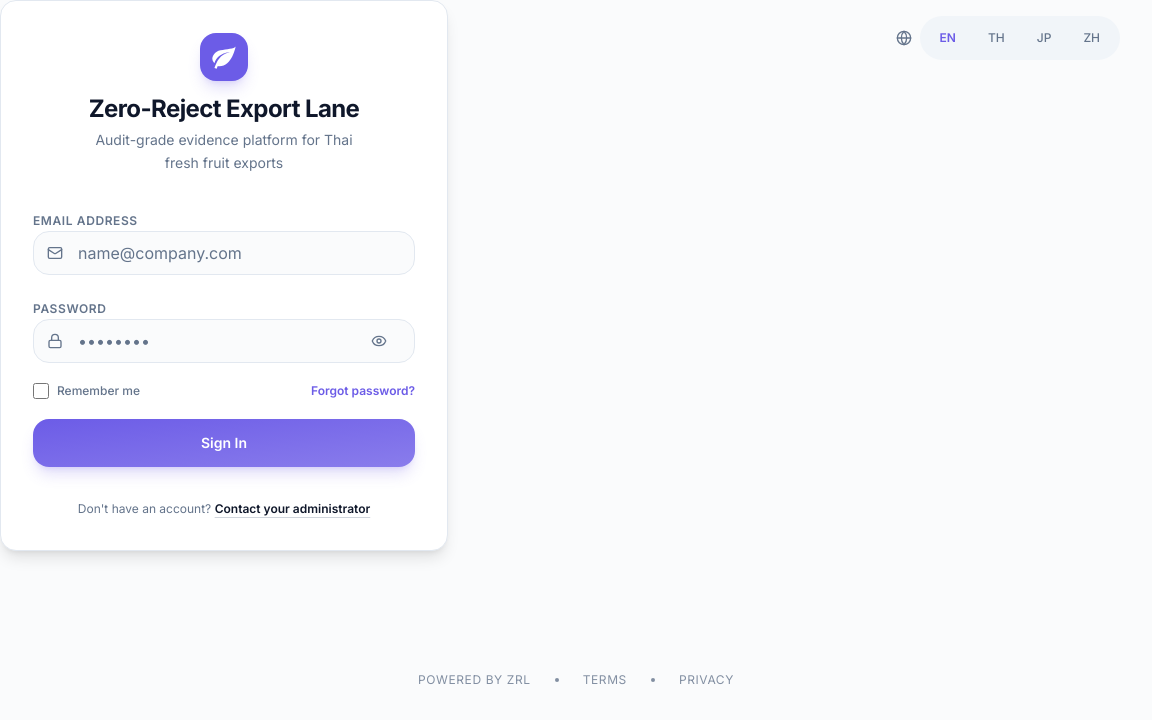
LoginPage › shows validation error for short password
Type "test@example.com" into the field labelled "Email Address" at x=224, y=252, box [33, 230, 415, 274]
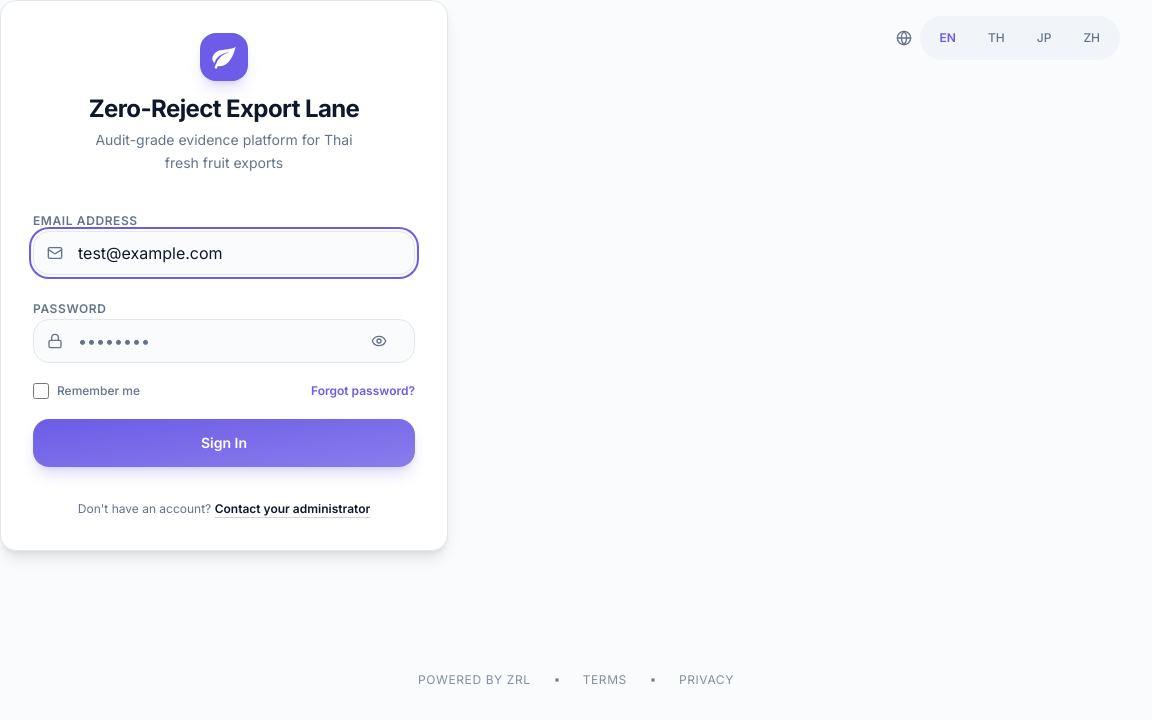
Type "short" into the password field labelled "Password" at x=224, y=340, box [33, 318, 415, 362]
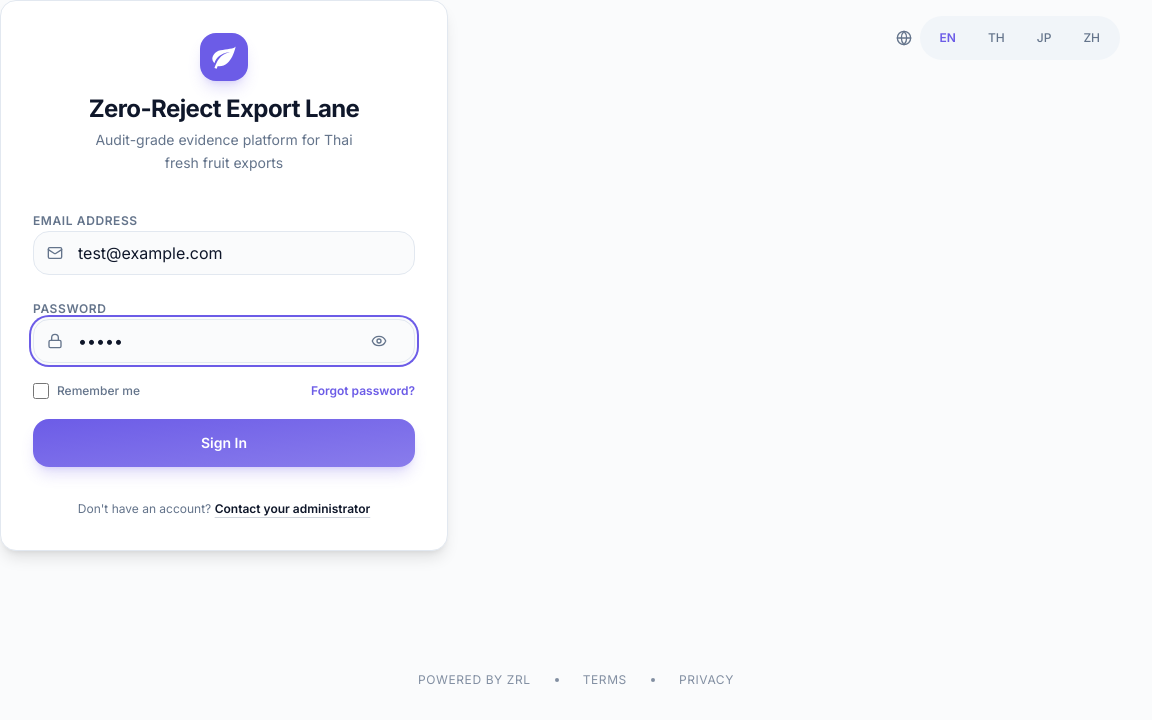
Click the button "Sign In" at x=224, y=442, box [33, 418, 415, 466]
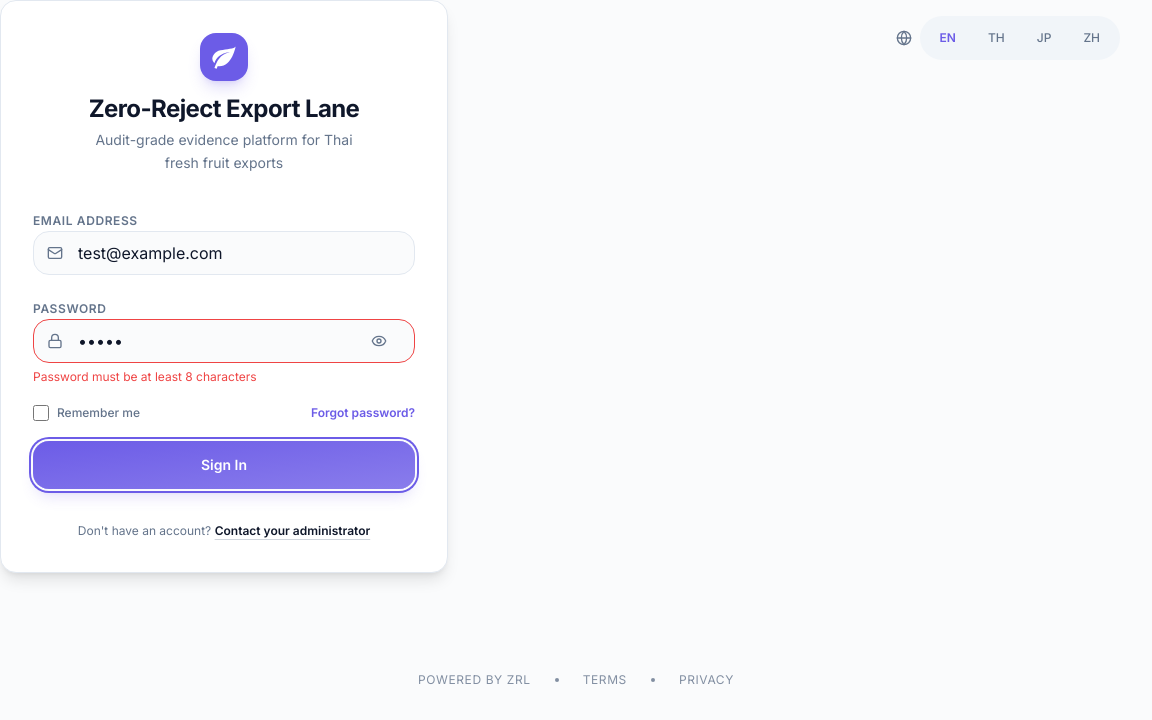
Expected: the text "Password must be at least 8 characters" is shown, [33, 368, 257, 384]
